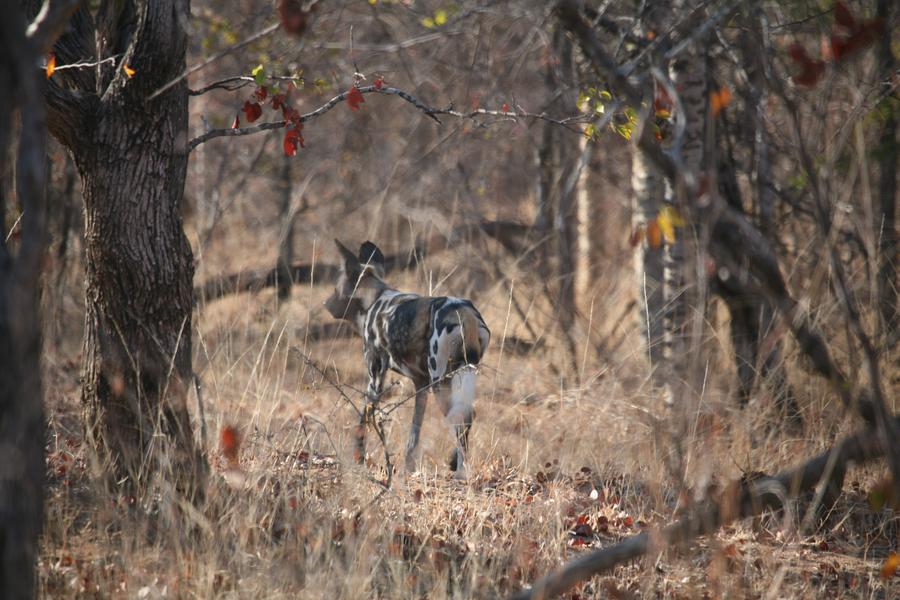wilddog: (318, 244, 477, 457)
